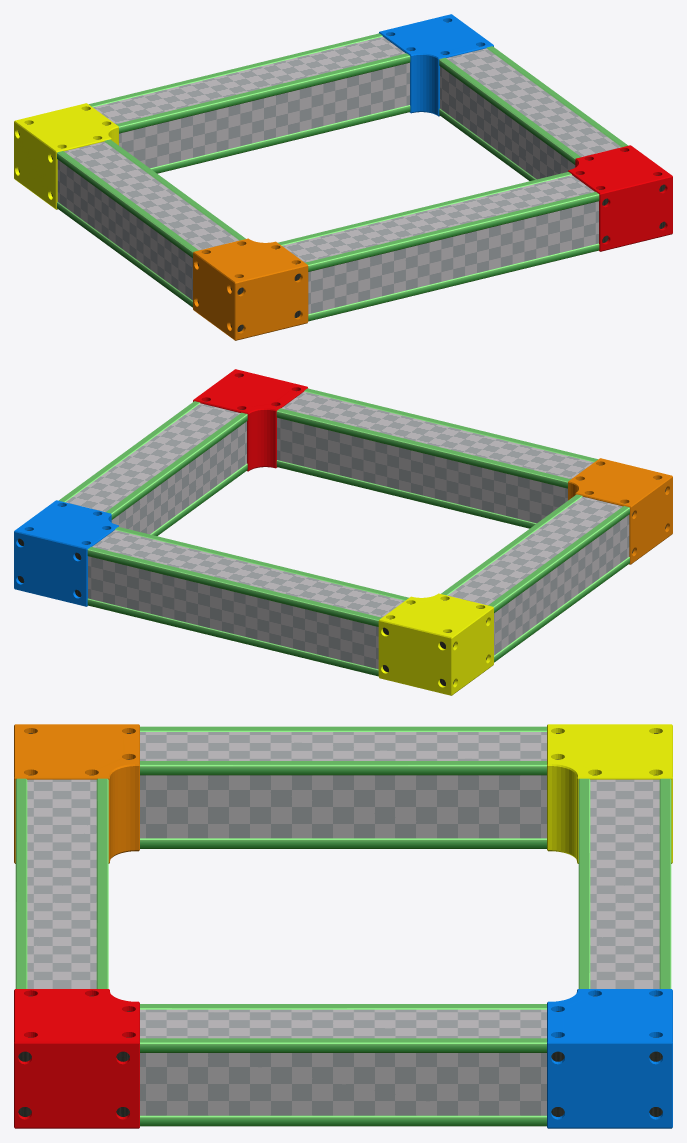
File: square_newBlend.fbx
The picture shows the model from 3 angles, top to bottom: view 1: azimuth 30°, elevation 25°; view 2: azimuth 150°, elevation 25°; view 3: azimuth 270°, elevation 25°; orthographic projection. The views are drawn at different scales.
Parts seen in each view (by area): view 1: glass, frame, orange, red, yellow, blue; view 2: glass, frame, yellow, blue, orange, red; view 3: glass, frame, blue, red, yellow, orange, metal.
Part boxes in pixels (x1=…): glass: x1=57, y1=36, x2=621, y2=314; frame: x1=57, y1=33, x2=627, y2=321; orange: x1=193, y1=238, x2=308, y2=340; red: x1=568, y1=145, x2=672, y2=251; yellow: x1=14, y1=103, x2=118, y2=209; blue: x1=379, y1=14, x2=493, y2=116; glass: x1=65, y1=391, x2=629, y2=669; frame: x1=59, y1=388, x2=629, y2=676; yellow: x1=378, y1=593, x2=493, y2=695; blue: x1=14, y1=500, x2=118, y2=606; orange: x1=568, y1=458, x2=672, y2=564; red: x1=193, y1=369, x2=307, y2=471; glass: x1=27, y1=732, x2=659, y2=1115; frame: x1=15, y1=726, x2=671, y2=1126; blue: x1=547, y1=989, x2=672, y2=1128; red: x1=14, y1=989, x2=139, y2=1128; yellow: x1=547, y1=724, x2=672, y2=863; orange: x1=14, y1=724, x2=139, y2=863; metal: x1=18, y1=733, x2=662, y2=1116.
Bounding box in the file's own units: 669 × 85.44 × 586.
7 materials, 7 textured.
